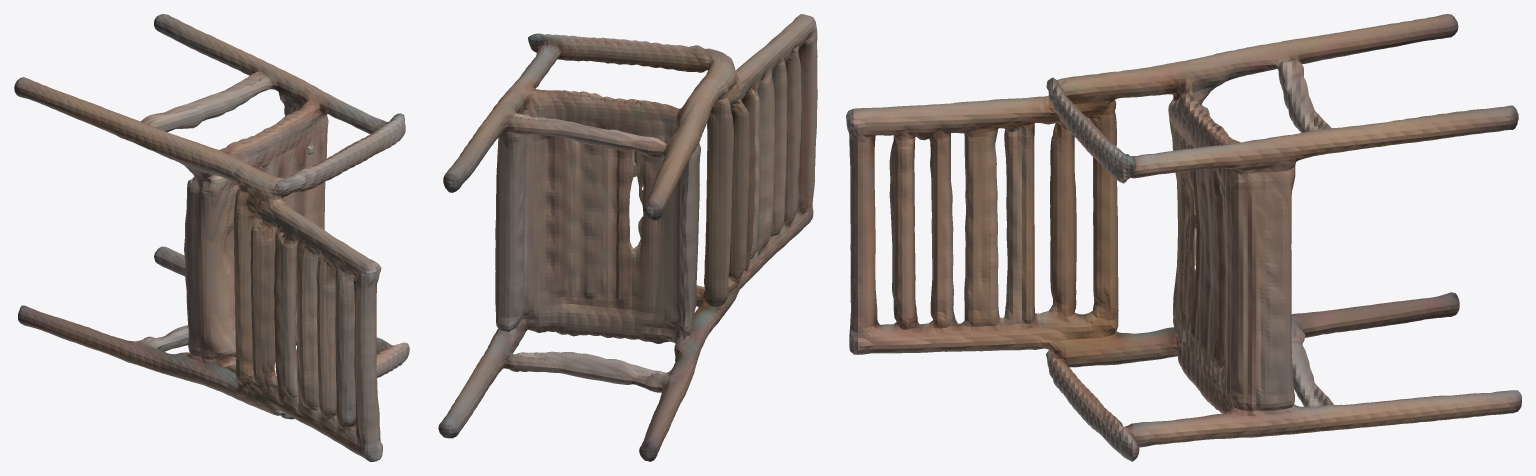
3 renders of one model, left to right at view 1: azimuth 30°, elevation 25°; view 2: azimuth 150°, elevation 25°; view 3: azimuth 270°, elevation 25°, orthographic. The views are drawn at different scales.
Parts seen in each view (by area): view 1: world; view 2: world; view 3: world.
Part boxes in pixels (bbox=[...]): world: bbox=[14, 14, 409, 461]; world: bbox=[438, 14, 817, 461]; world: bbox=[846, 14, 1521, 461].
Size of the model in its own units: 0.5651 by 0.5215 by 1.04.
